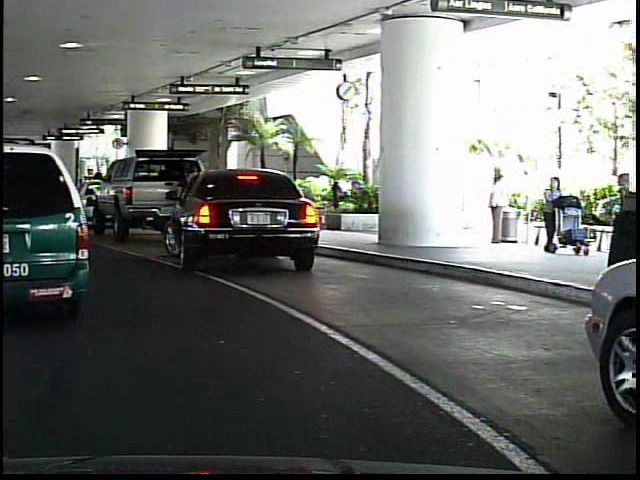person: (537, 172, 564, 257)
